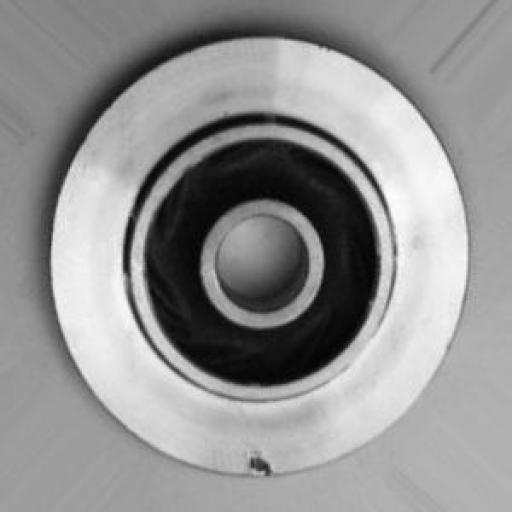defect: (220, 444, 302, 494)
